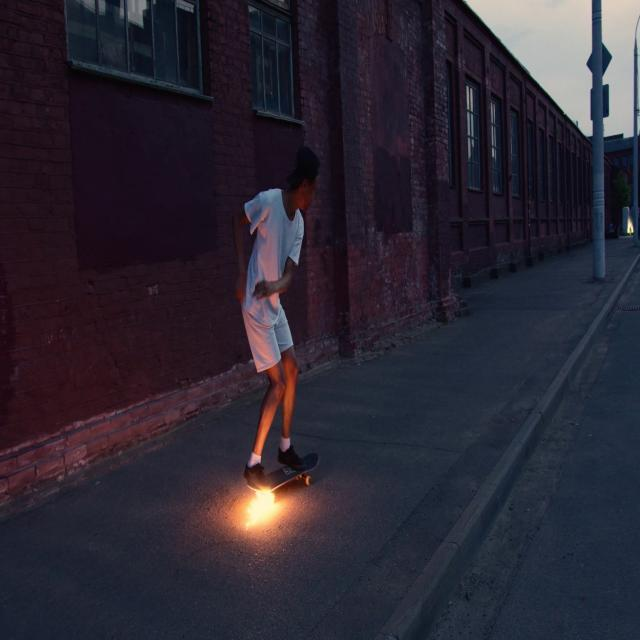Fire: (242, 482, 280, 528)
